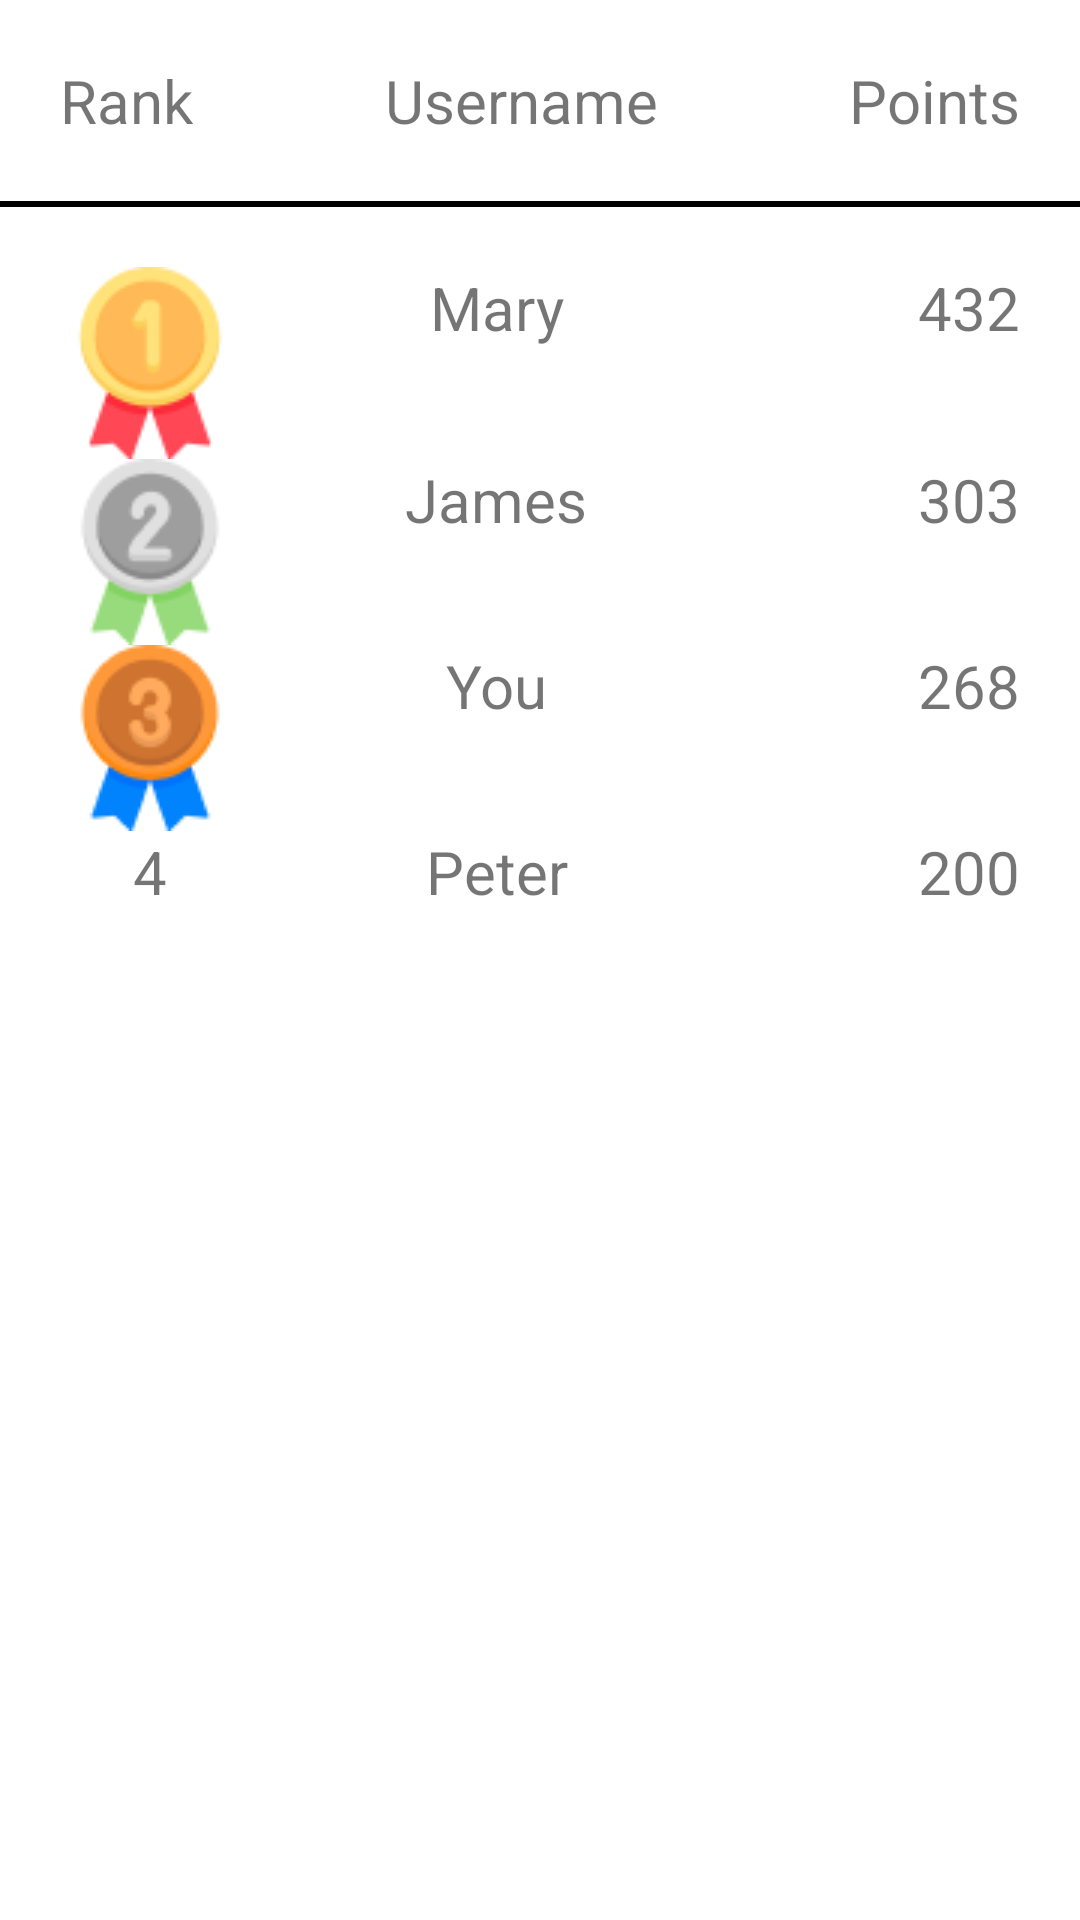

Icon click points for this 1080×1920 phone screenshot, format (x=x, y=y):
bronze medal: (x=150, y=738)
gold medal: (x=150, y=363)
silver medal: (x=150, y=552)
